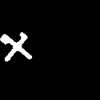single_crochet: (0, 33, 31, 60)
